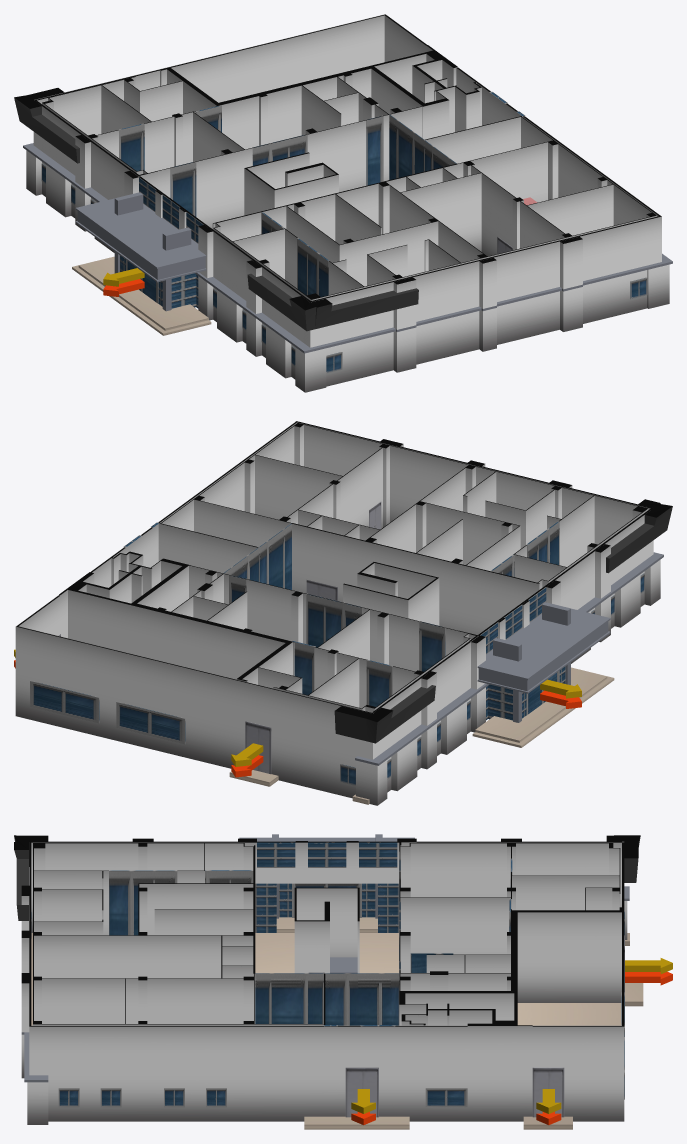
File: soulbrain_T2-9-1F.glb
3 renders of one model, top to bottom at view 1: azimuth 30°, elevation 25°; view 2: azimuth 150°, elevation 25°; view 3: azimuth 270°, elevation 25°, orthographic. The views are drawn at different scales.
Parts seen in each view (by area): view 1: T2-9-1F, Box479, Box476; view 2: T2-9-1F, Box479, Box476; view 3: T2-9-1F, Box476, Box479, arrow_Y_2_T2-9-1F, arrow_R_2_T2-9-1F.
Boxes of the visible parts, box(x1,y1,x2,y2) form: T2-9-1F: box(14, 14, 672, 392); Box479: box(75, 192, 206, 311); Box476: box(72, 256, 211, 335); T2-9-1F: box(15, 421, 672, 805); Box479: box(477, 602, 610, 722); Box476: box(229, 667, 614, 804); T2-9-1F: box(14, 835, 640, 1124); Box476: box(31, 917, 643, 1129); Box479: box(239, 834, 414, 918); arrow_Y_2_T2-9-1F: box(625, 958, 672, 973); arrow_R_2_T2-9-1F: box(625, 971, 672, 985).
Size of the model in its own units: 32.33 by 6.05 by 37.54.
20 materials, 14 textured.
